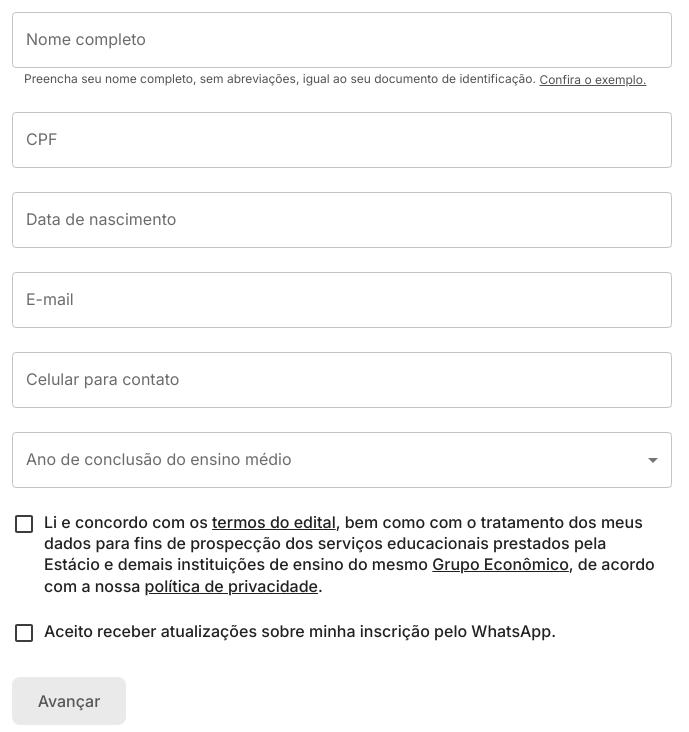
Test case: PersonalDataForm › rejects a name written with abbreviations
Type "Maria S Souza" into the field labelled "Nome completo". click: [342, 40]
box: [12, 12, 672, 68]
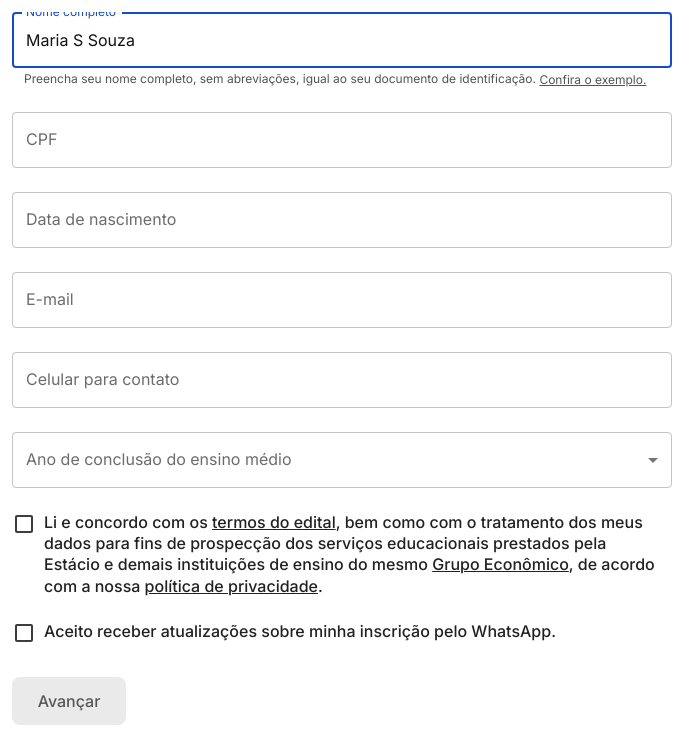
Press Tab
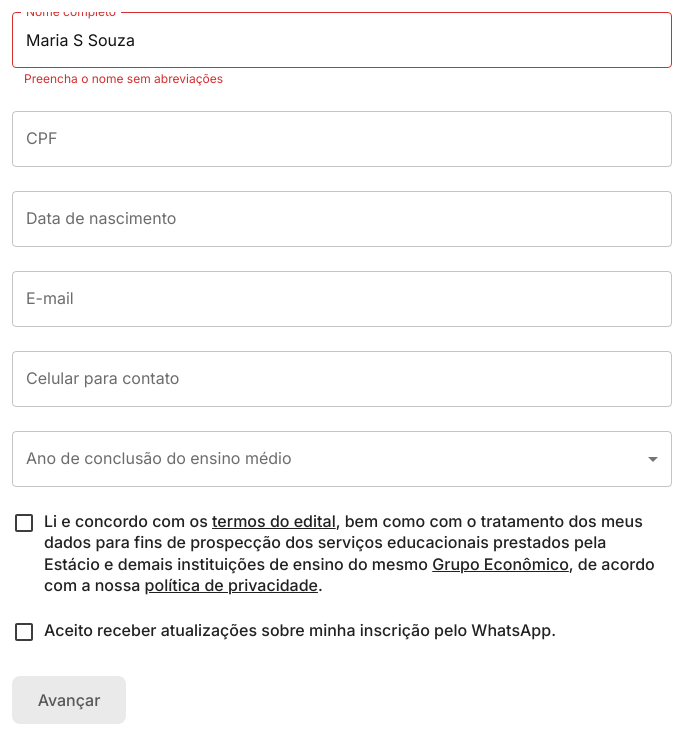
Expected: the text "Preencha o nome sem abreviações" is shown, [24, 71, 223, 86]
